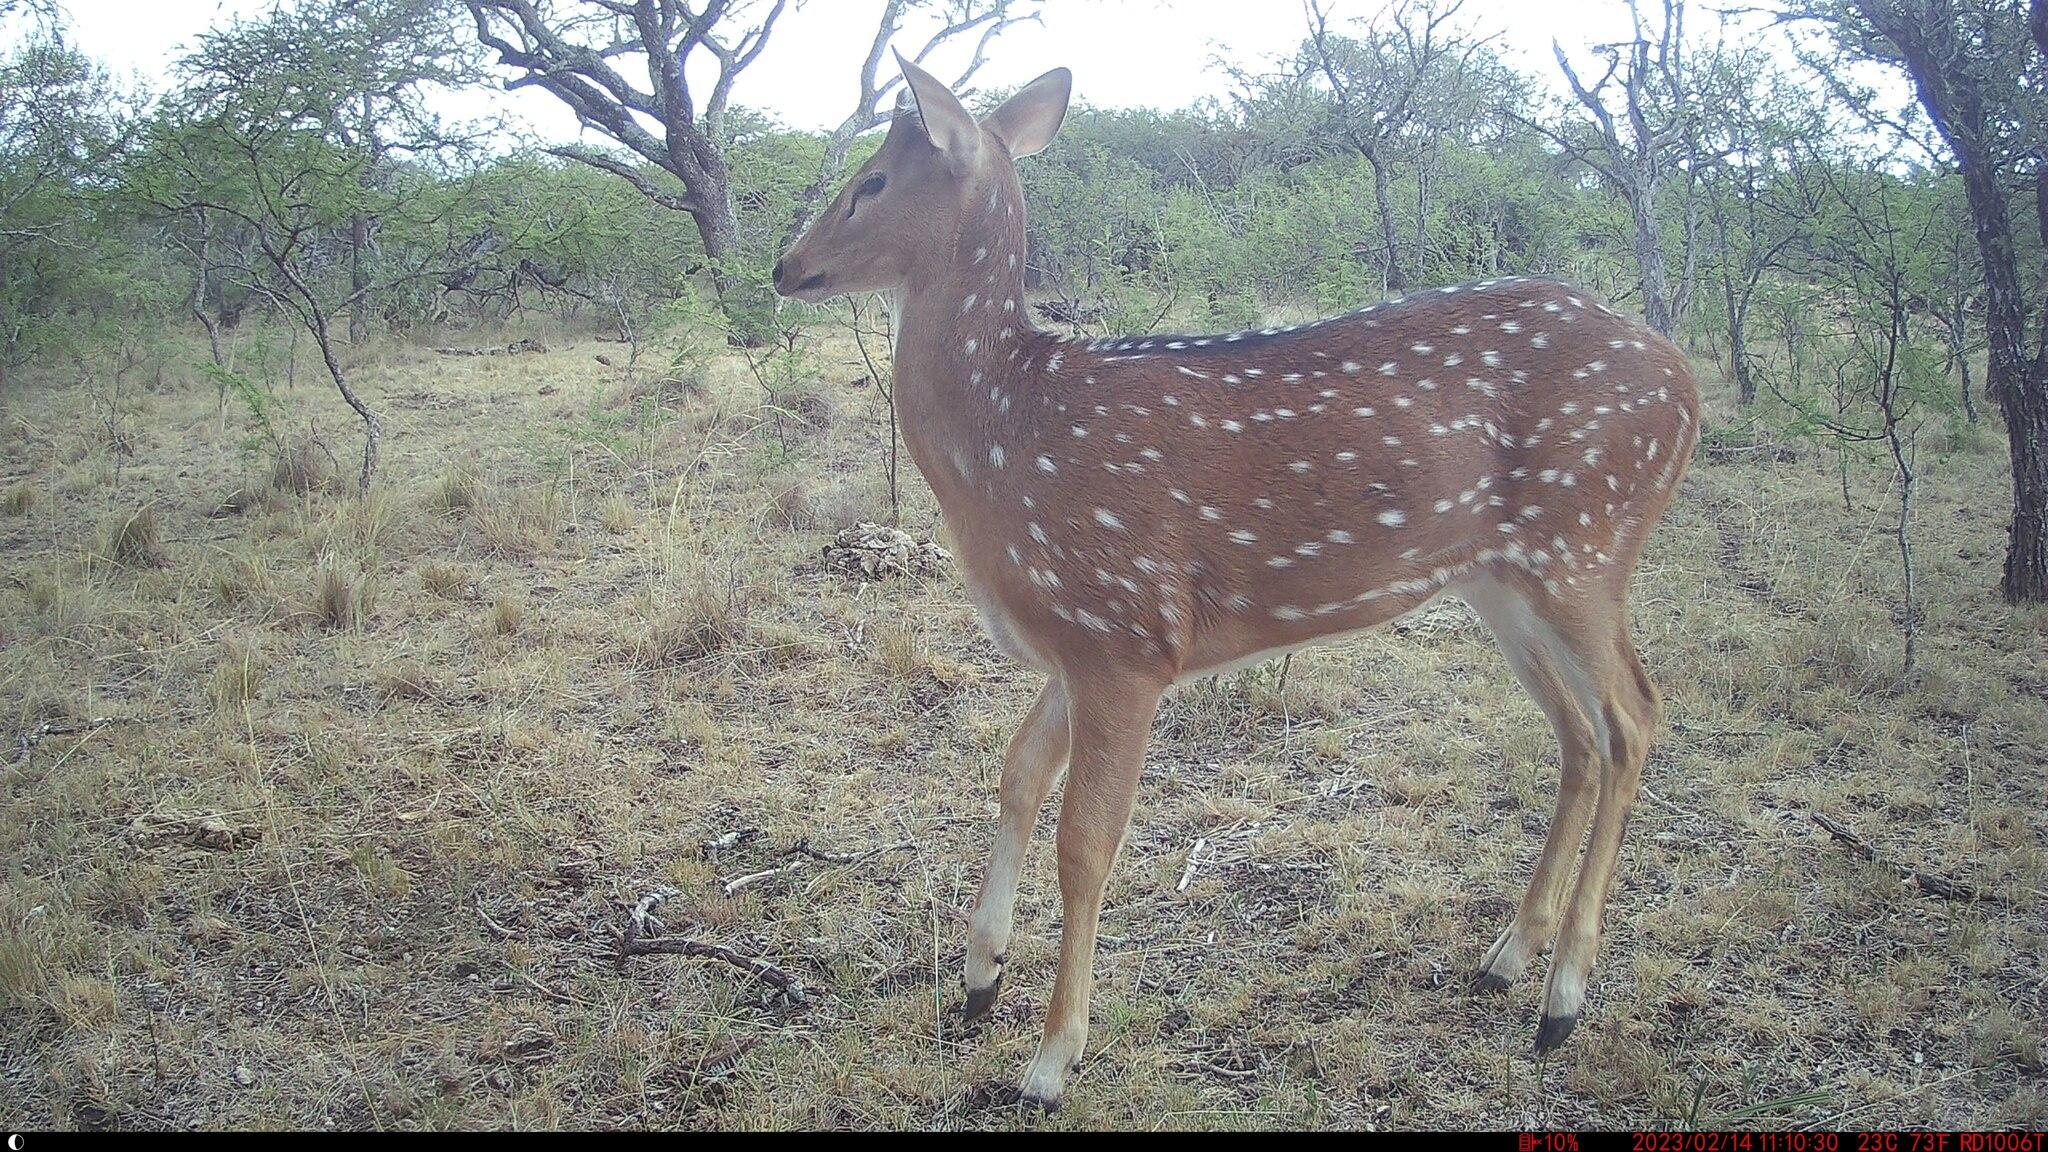Deer: (772, 60, 1699, 1104)
